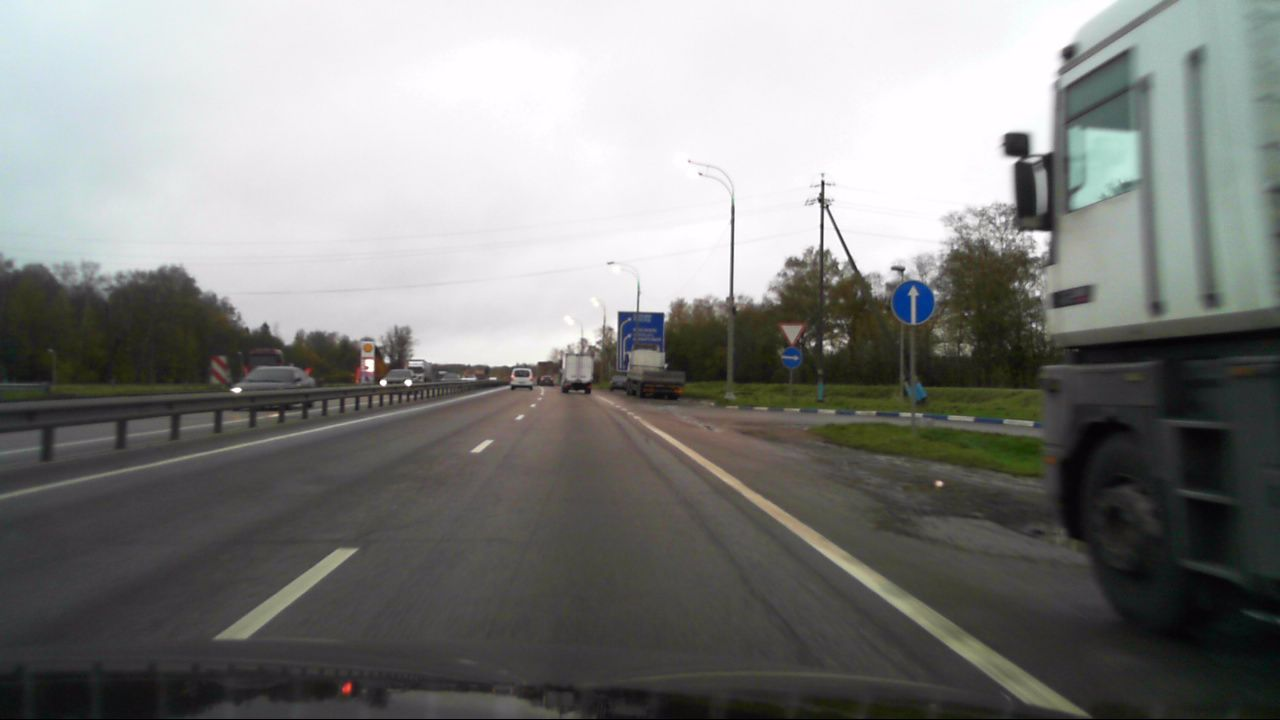Turn Right: (780, 347, 803, 369)
